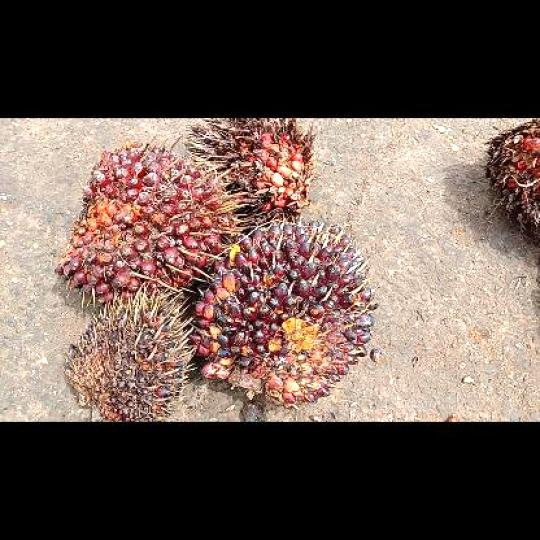kurang masak: (190, 218, 381, 406)
masak: (53, 138, 222, 304)
terlalu masak: (179, 119, 317, 224)
